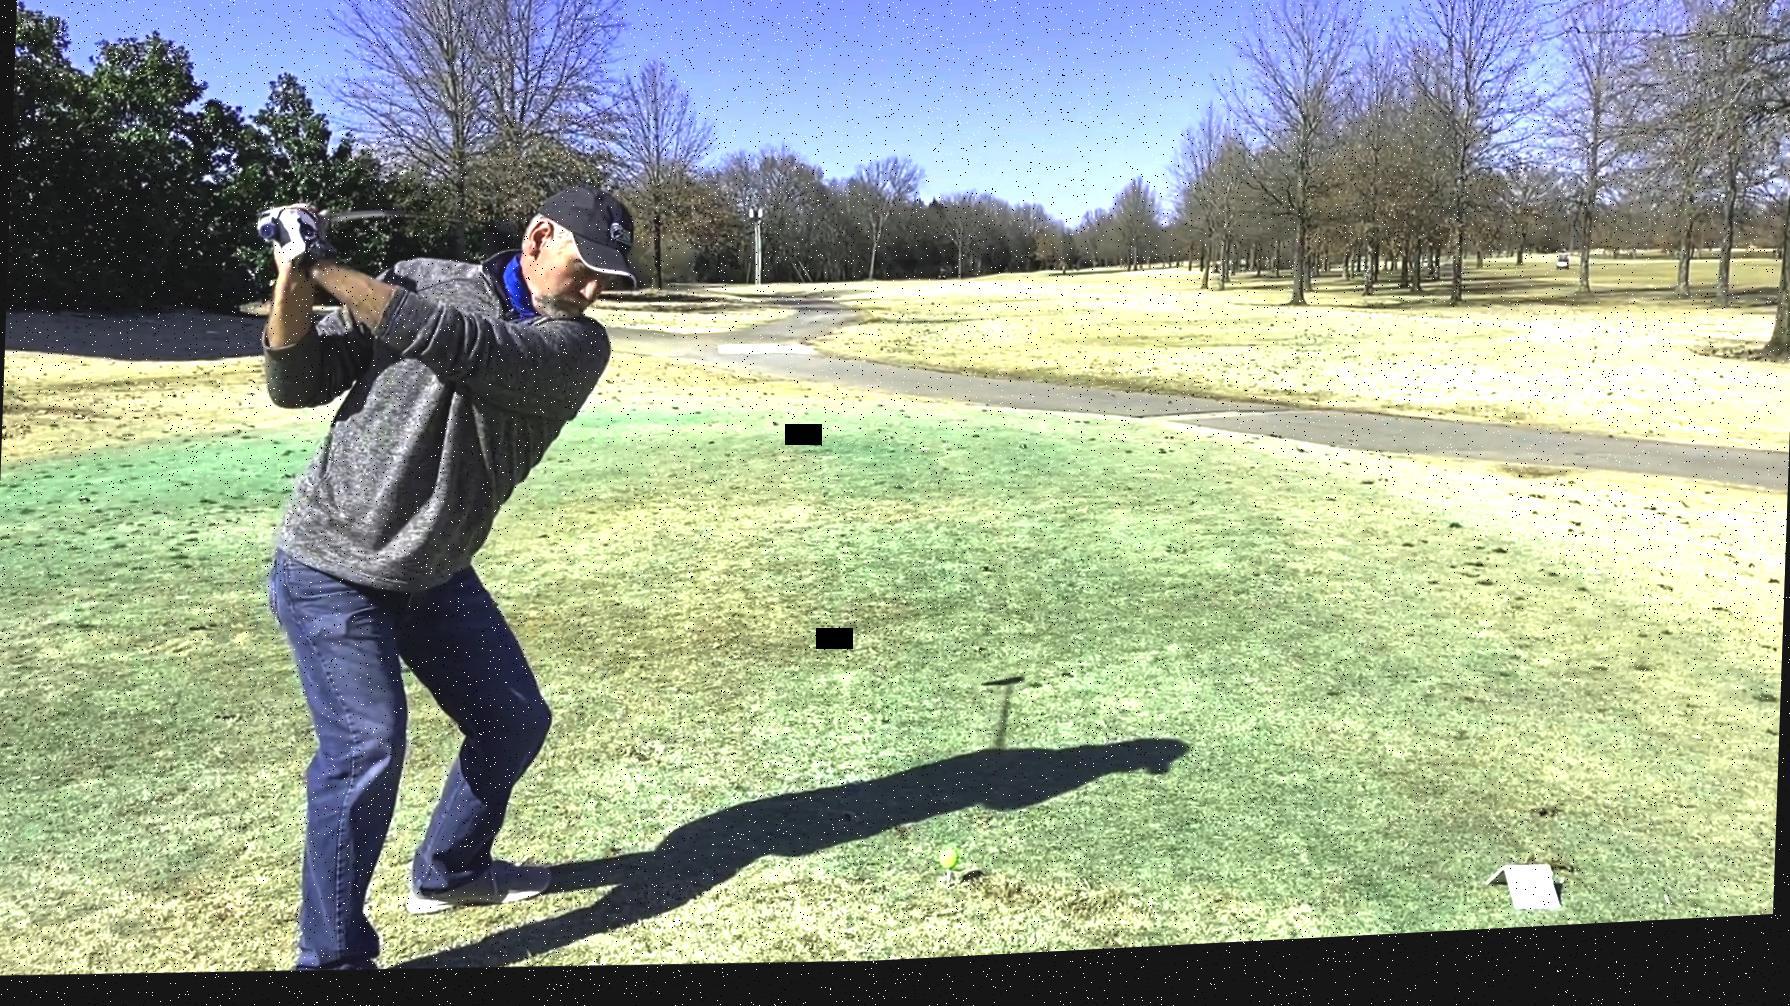GolfBall: (938, 856, 959, 882)
